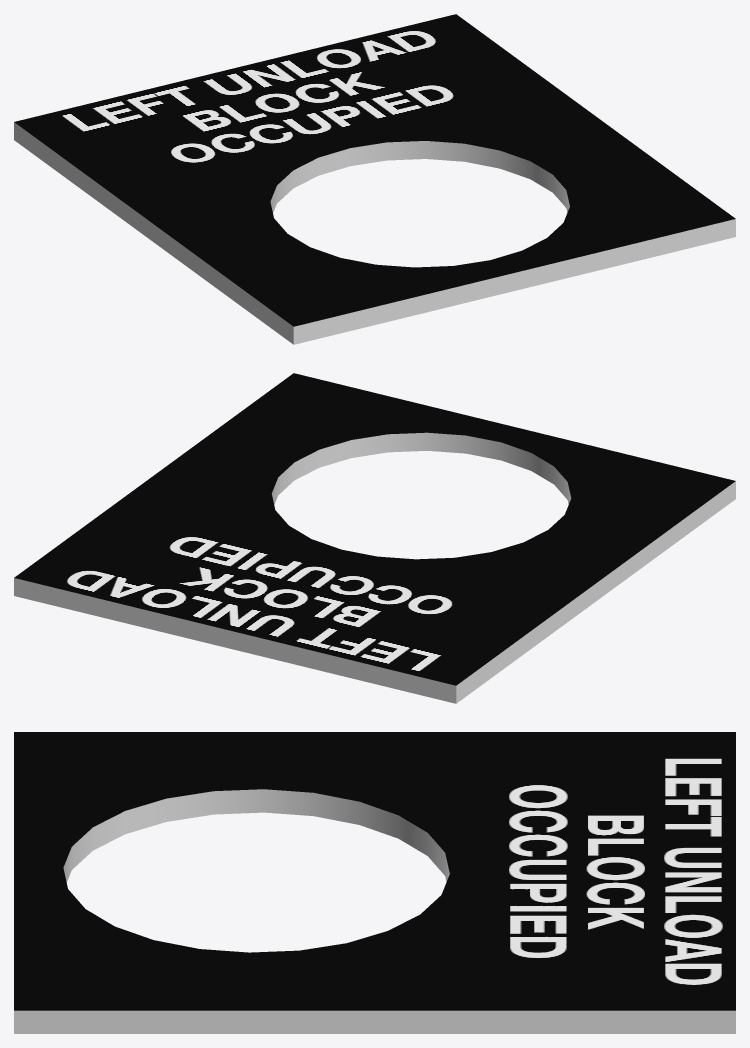
File: leftunload.dae
3 views of the same model, one above another, from view 1: azimuth 30°, elevation 25°; view 2: azimuth 150°, elevation 25°; view 3: azimuth 270°, elevation 25° (orthographic). The views are drawn at different scales.
Parts seen in each view (by area): view 1: SketchUp (×3); view 2: SketchUp (×3); view 3: SketchUp (×3).
Part boxes in pixels (x1,y1,x2,y2): SketchUp (×3): (14, 14, 735, 344); SketchUp (×3): (14, 373, 735, 703); SketchUp (×3): (14, 732, 735, 1033).
Bounding box in the file's own units: 2.01 × 2.2 × 0.0787.
Materials: 2 (1 with a texture image).
